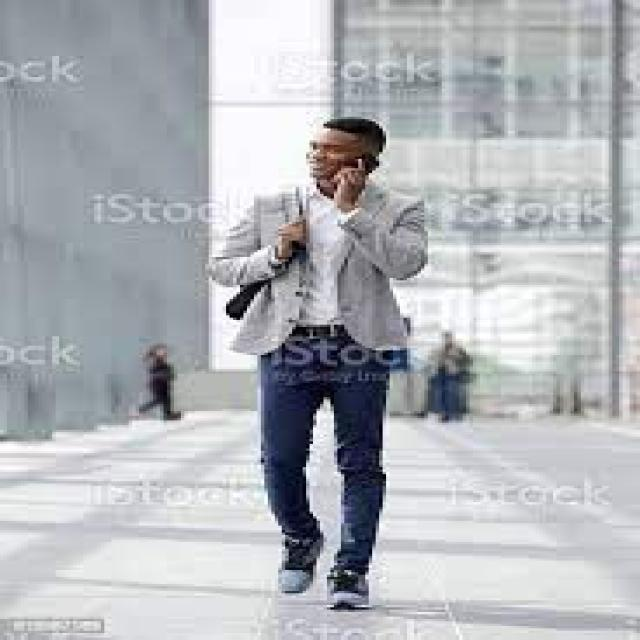jovem: (215, 115, 446, 612)
